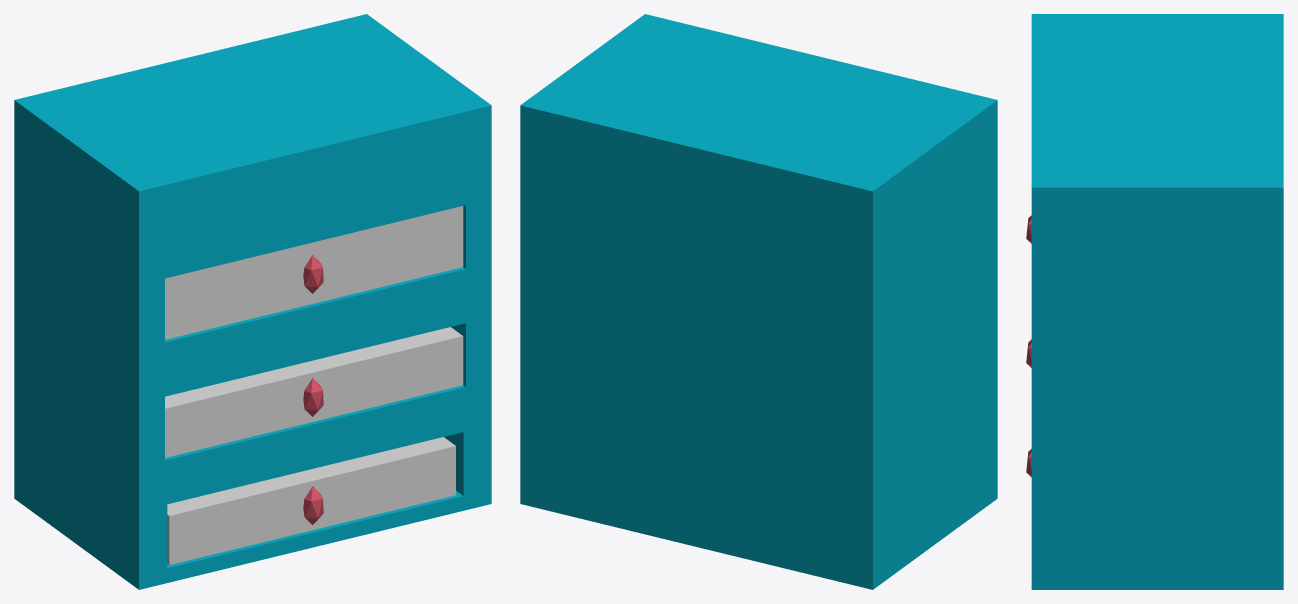
3 views of the same model, side by side, from view 1: azimuth 30°, elevation 25°; view 2: azimuth 150°, elevation 25°; view 3: azimuth 270°, elevation 25° (orthographic).
Parts seen in each view (by area): view 1: Mesh_Mesh_head_geo.001_lambert2SG.001; view 2: Mesh_Mesh_head_geo.001_lambert2SG.001; view 3: Mesh_Mesh_head_geo.001_lambert2SG.001.
Part boxes in pixels (left/top/right/bottom): Mesh_Mesh_head_geo.001_lambert2SG.001: left=14, top=14, right=491, bottom=589; Mesh_Mesh_head_geo.001_lambert2SG.001: left=520, top=14, right=997, bottom=589; Mesh_Mesh_head_geo.001_lambert2SG.001: left=1026, top=14, right=1283, bottom=589.
Bounding box in the file's own units: 75 × 81 × 47.
